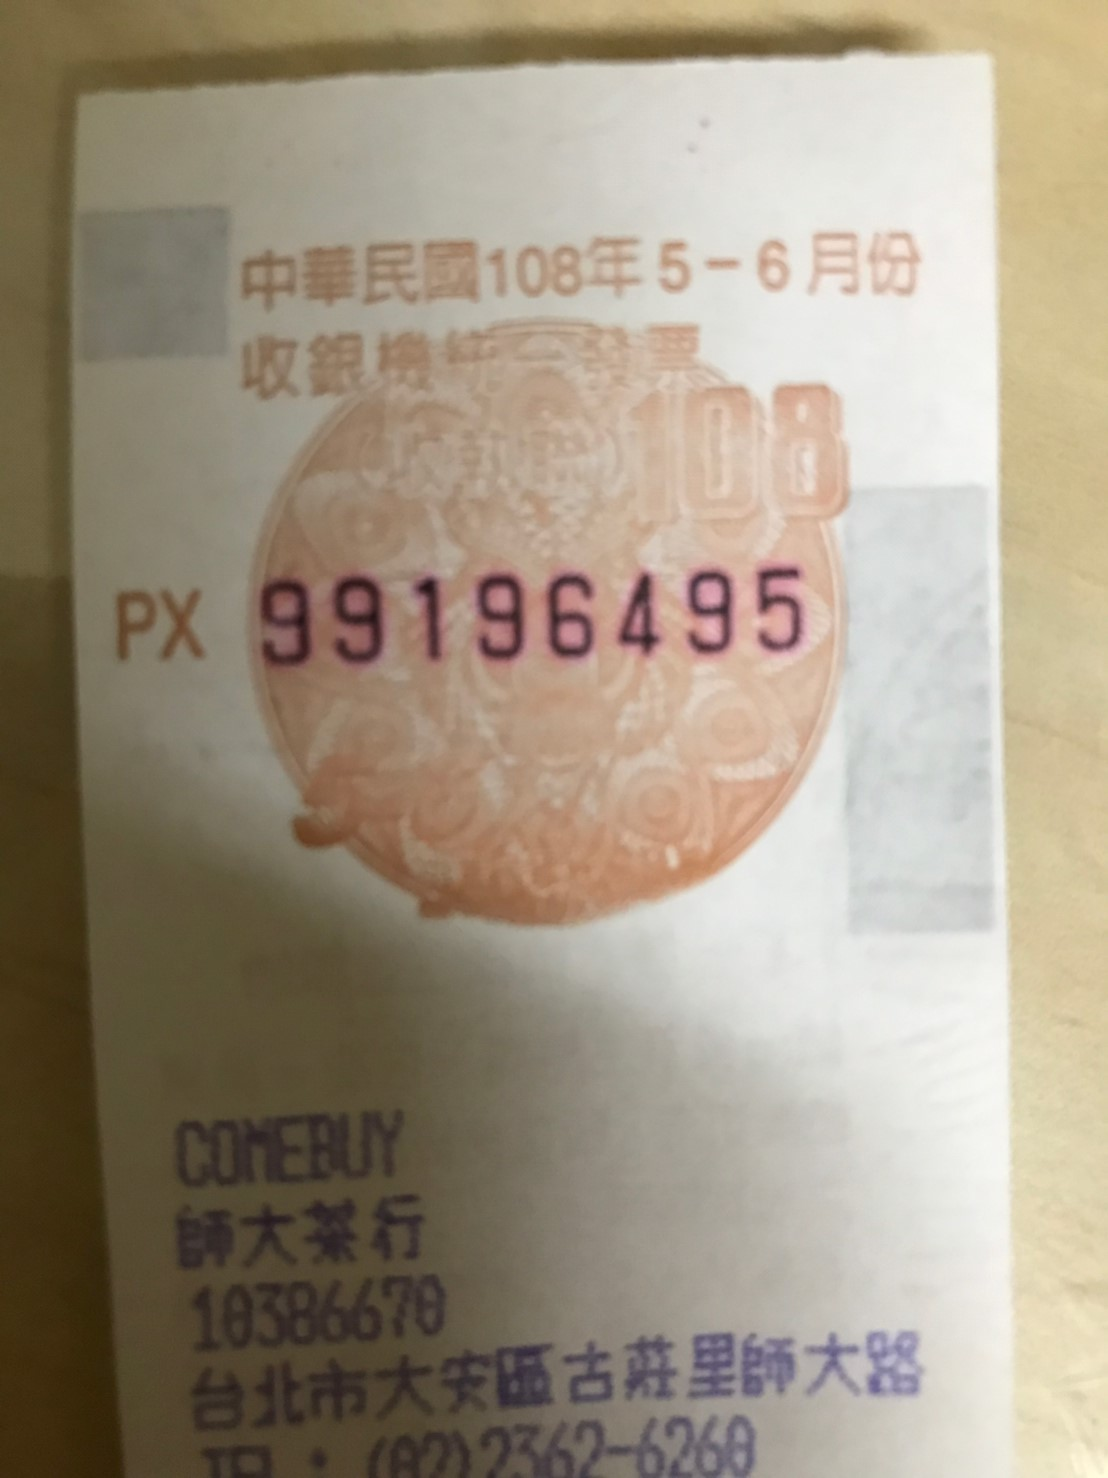Date_Old: (486, 225, 928, 306)
Number_Old: (254, 562, 812, 667)
